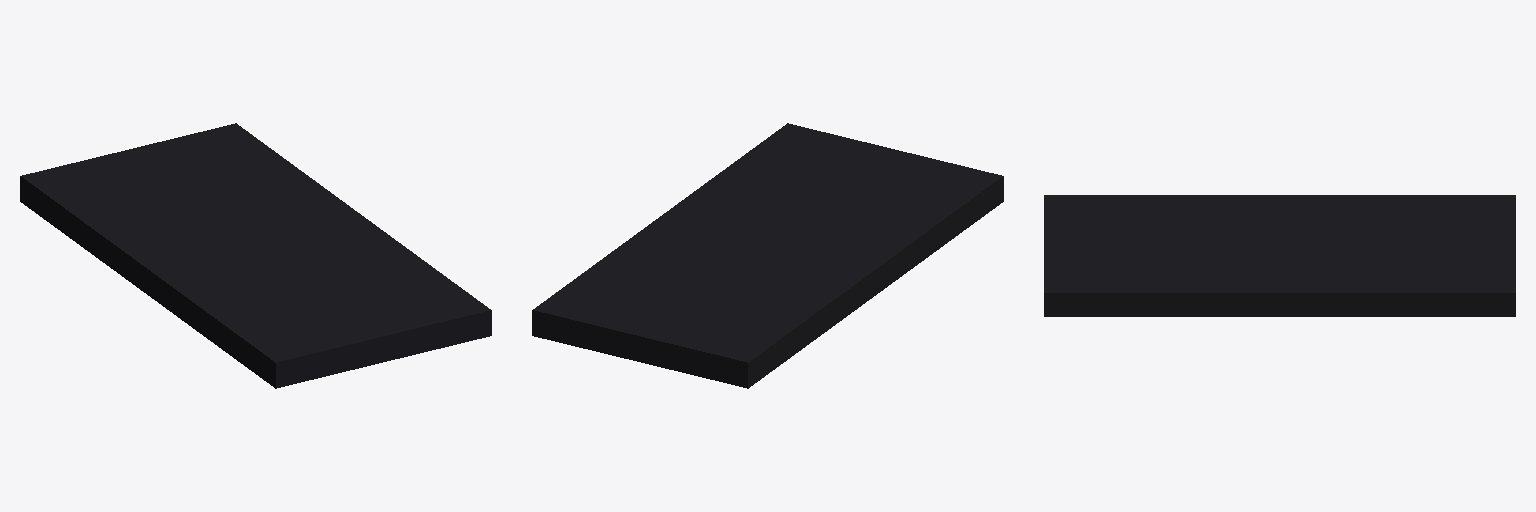
URDF robot description (iphone_12_mini):
<?xml version="1.0"?>
<!-- iPhone 12 mini: generated by imuninn from Apple's dimensional drawings (iphone-frames dataset). Frames: device = display centre on the front glass (x right, y top, z out of the screen); cam_*_optical = OpenCV axes. Geometry and mass are approximate. -->
<robot name="iphone_12_mini">
  <material name="iphone_body">
    <color rgba="0.15 0.15 0.17 1" />
  </material>
  <material name="iphone_lens">
    <color rgba="0.05 0.05 0.06 1" />
  </material>
  <link name="device">
    <visual name="body">
      <origin xyz="-7.10542736e-18 0 -0.003695" rpy="0 0 0" />
      <geometry>
        <box size="0.06421 0.1315 0.00739" />
      </geometry>
      <material name="iphone_body" />
    </visual>
    <collision name="body">
      <origin xyz="-7.10542736e-18 0 -0.003695" rpy="0 0 0" />
      <geometry>
        <box size="0.06421 0.1315 0.00739" />
      </geometry>
    </collision>
    <visual name="lens_ultra_wide">
      <origin xyz="0.021435 0.05508 -0.008145" rpy="0 0 0" />
      <geometry>
        <cylinder radius="0.00605" length="0.00151" />
      </geometry>
      <material name="iphone_lens" />
    </visual>
    <visual name="lens_main">
      <origin xyz="0.021435 0.0408 -0.008145" rpy="0 0 0" />
      <geometry>
        <cylinder radius="0.00605" length="0.00151" />
      </geometry>
      <material name="iphone_lens" />
    </visual>
    <inertial>
      <origin xyz="-7.10542736e-18 0 -0.003695" rpy="0 0 0" />
      <mass value="0.144" />
      <inertia ixx="0.000208162" ixy="0" ixz="0" iyy="5.01304e-05" iyz="0" izz="0.000256982" />
    </inertial>
  </link>
  <link name="magsafe" />
  <joint name="device_to_magsafe" type="fixed">
    <parent link="device" />
    <child link="magsafe" />
    <origin xyz="-5e-06 1e-05 -0.00739" rpy="3.14159265 0 3.14159265" />
  </joint>
  <link name="cam_ultra_wide_optical" />
  <joint name="device_to_cam_ultra_wide_optical" type="fixed">
    <parent link="device" />
    <child link="cam_ultra_wide_optical" />
    <origin xyz="0.021435 0.05508 -0.0089" rpy="3.14159265 0 -1.57079633" />
  </joint>
  <link name="cam_main_optical" />
  <joint name="device_to_cam_main_optical" type="fixed">
    <parent link="device" />
    <child link="cam_main_optical" />
    <origin xyz="0.021435 0.0408 -0.0089" rpy="3.14159265 0 -1.57079633" />
  </joint>
  <link name="cam_front_optical" />
  <joint name="device_to_cam_front_optical" type="fixed">
    <parent link="device" />
    <child link="cam_front_optical" />
    <origin xyz="5e-06 0.06043 0" rpy="0 0 1.57079633" />
  </joint>
  <link name="imu" />
  <joint name="device_to_imu" type="fixed">
    <parent link="device" />
    <child link="imu" />
    <origin xyz="0 0 0" rpy="0 0 0" />
  </joint>
</robot>

--- Facts derived from the render (not from the file) ---
The picture shows the robot from 3 angles, left to right: view 1: azimuth 30°, elevation 25°; view 2: azimuth 150°, elevation 25°; view 3: azimuth 270°, elevation 25°; orthographic projection.
Model iphone_12_mini with 6 links and 5 joints (5 fixed), rooted at device, posed all joints at 0.
Links seen in each view (by area): view 1: device; view 2: device; view 3: device.
Boxes of the visible links, bbox=[...] form: device: bbox=[20, 123, 491, 388]; device: bbox=[532, 123, 1003, 388]; device: bbox=[1044, 195, 1515, 316].
Size in the robot's own frame: 0.0642 by 0.1315 by 0.0089 metres.
Geometry: primitives only (box / cylinder / sphere), no mesh files.
